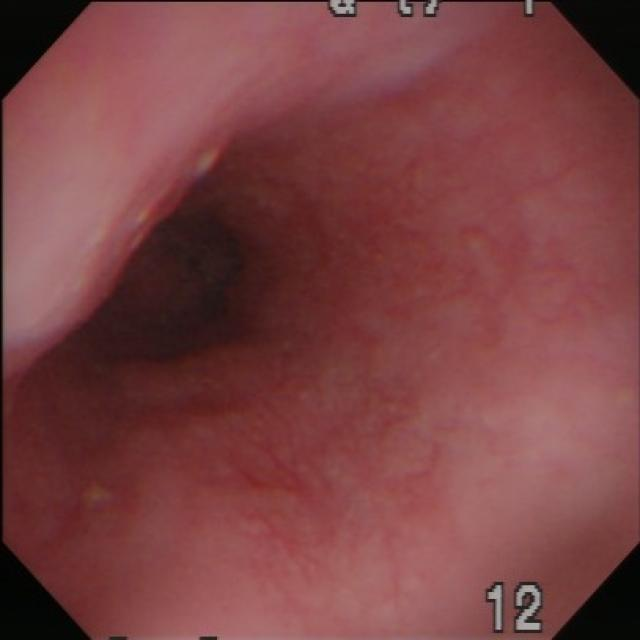E: (61, 191, 276, 372)
S: (485, 581, 547, 636), (325, 3, 545, 18)
